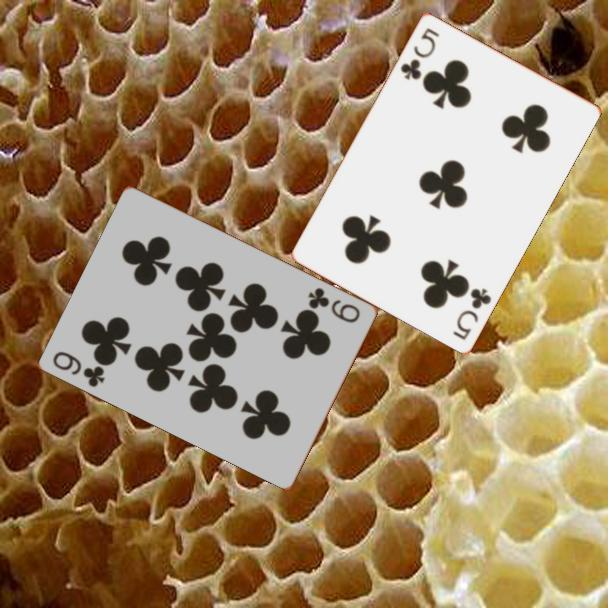c05: (396, 24, 442, 83), (449, 284, 494, 343)
c09: (50, 347, 109, 390), (305, 284, 363, 326)
